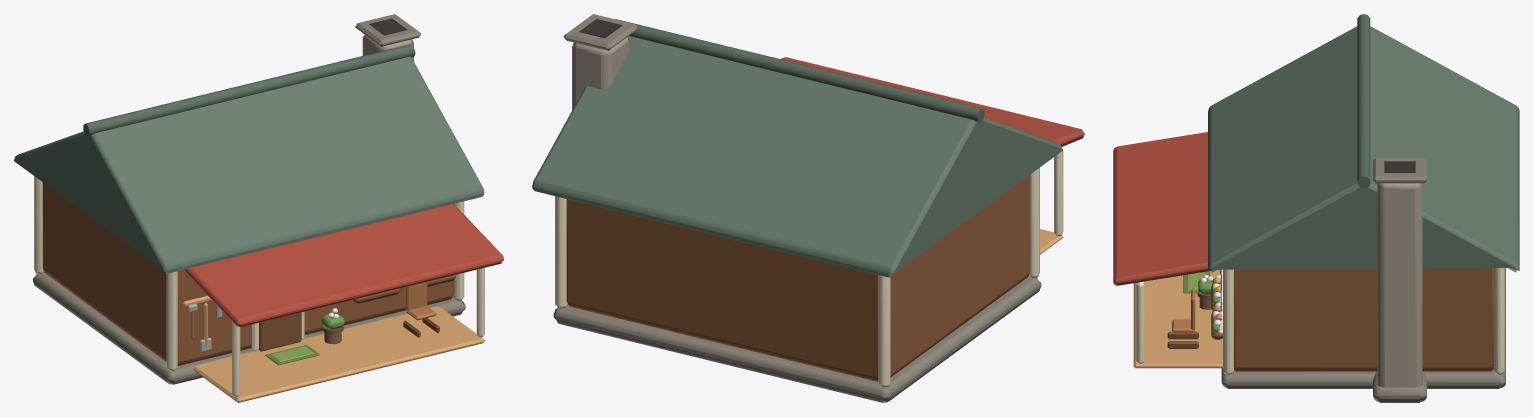
Rendered from cabin_hazel.glb.
3 renders of one model, left to right at view 1: azimuth 30°, elevation 25°; view 2: azimuth 150°, elevation 25°; view 3: azimuth 270°, elevation 25°, orthographic. The views are drawn at different scales.
Visible parts, largest first — view 1: body; view 2: body; view 3: body.
Part boxes in pixels (x1,y1,x2,y2): body: (14, 14, 503, 402); body: (532, 14, 1084, 402); body: (1113, 14, 1519, 402).
Bounding box in the file's own units: 8.91 × 5.57 × 9.
